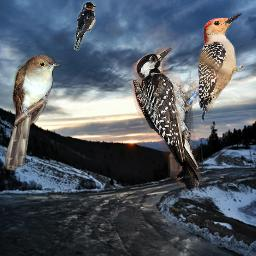Cuckoo: (5, 54, 61, 170)
Swallow: (73, 1, 96, 51)
Woodpecker: (126, 42, 222, 191), (198, 12, 243, 123)
